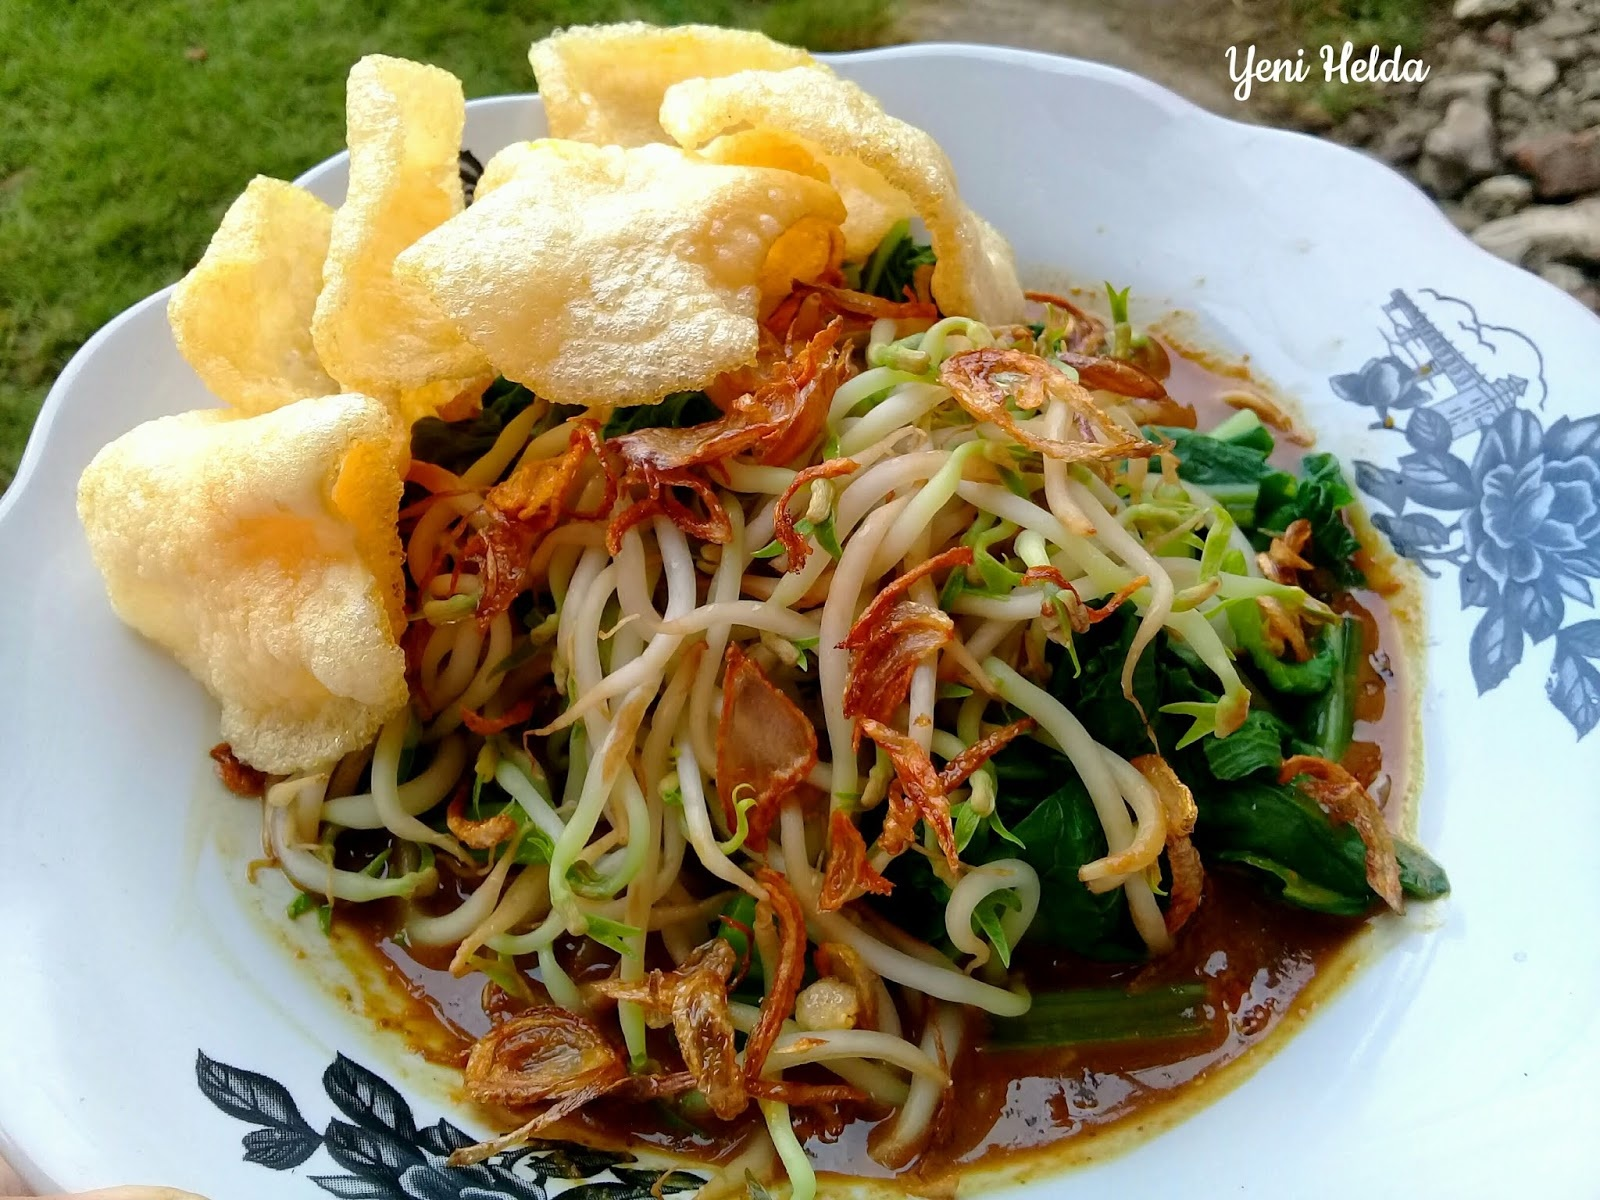pecel: (239, 280, 1466, 1165)
